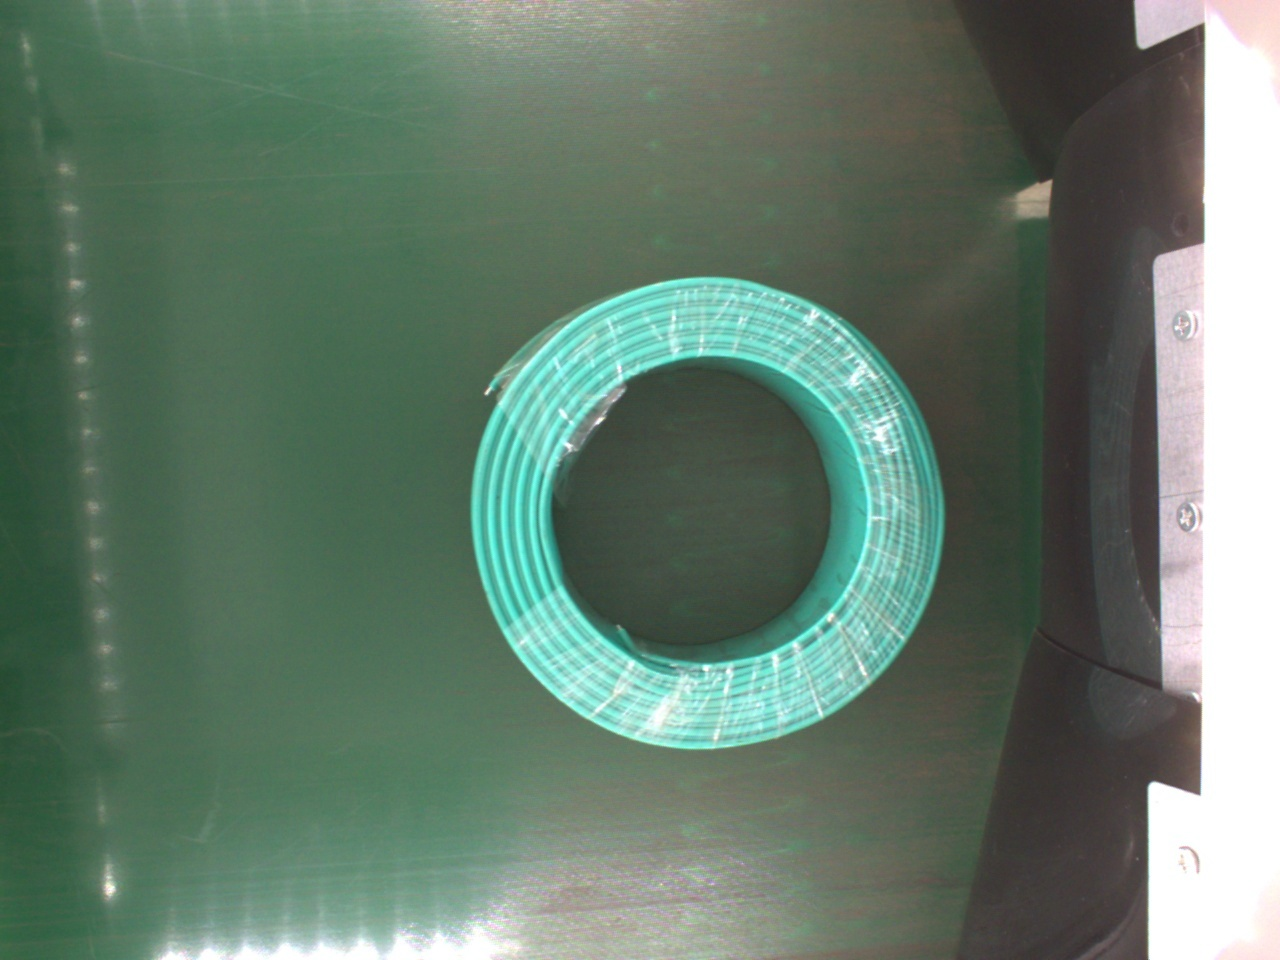green: (471, 275, 942, 753)
